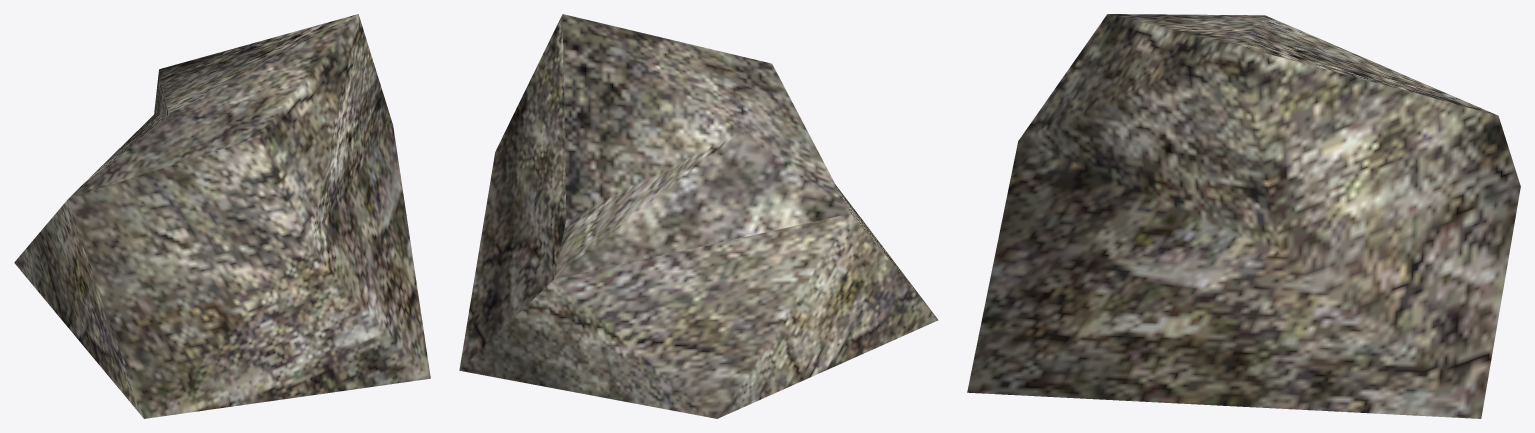
Rendered from general_obj_pieceofstone03.fbx.
The picture shows the model from 3 angles, left to right: view 1: azimuth 30°, elevation 25°; view 2: azimuth 150°, elevation 25°; view 3: azimuth 270°, elevation 25°; orthographic projection. The views are drawn at different scales.
Parts seen in each view (by area): view 1: Object04; view 2: Object04; view 3: Object04.
Part boxes in pixels (left/top/right/bottom): Object04: left=14, top=14, right=430, bottom=418; Object04: left=459, top=14, right=938, bottom=418; Object04: left=967, top=14, right=1520, bottom=418.
Bounding box in the file's own units: 0.2776 × 0.2192 × 0.2999.
